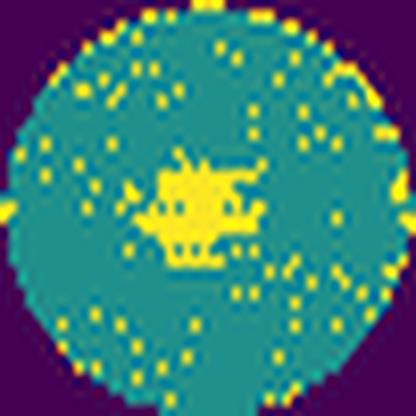Center: (135, 166, 262, 270)
